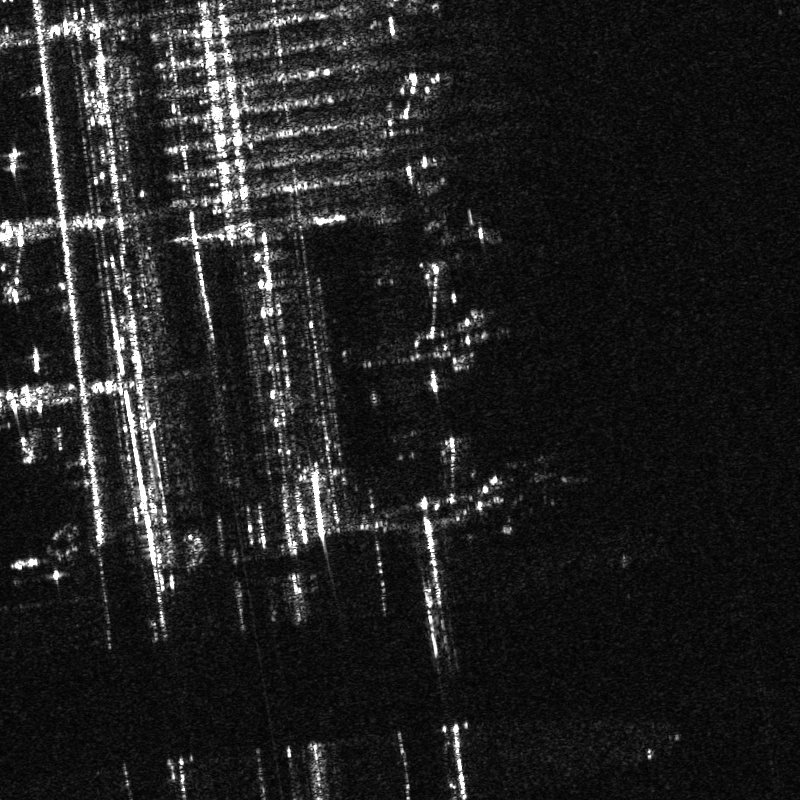Boeing737: (502, 450, 567, 508)
